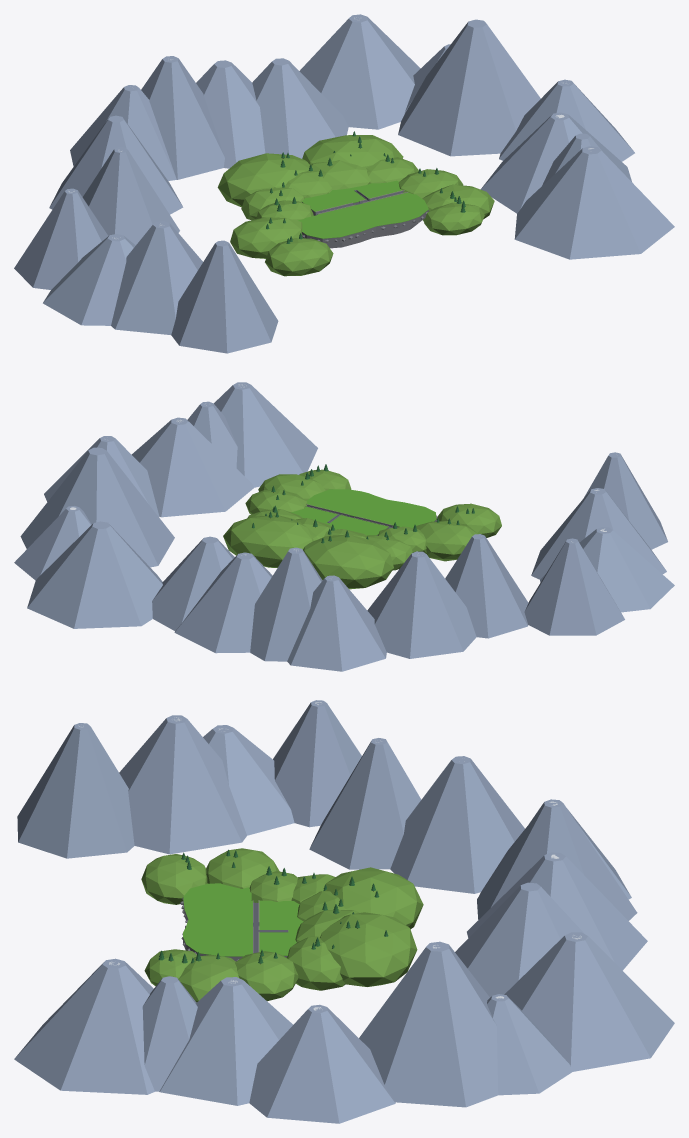
The model's file is LOBBY_VM_02_TERRAIN_2856ea.fbx.
3 renders of one model, top to bottom at view 1: azimuth 30°, elevation 25°; view 2: azimuth 150°, elevation 25°; view 3: azimuth 270°, elevation 25°, orthographic. The views are drawn at different scales.
Parts seen in each view (by area): view 1: VM_Bg_Mountains__Cliff_VM_Far, VM_Ter_Hills__Grass_VM_Hill, VM_Ter_Ground__Grass_VM, VM_Ter_Cliffs__Cliff_VM_Rock, VM_Ter_Hills__Leaf_VM_Pine; view 2: VM_Bg_Mountains__Cliff_VM_Far, VM_Ter_Hills__Grass_VM_Hill, VM_Ter_Ground__Grass_VM, VM_Ter_Hills__Leaf_VM_Pine; view 3: VM_Bg_Mountains__Cliff_VM_Far, VM_Ter_Hills__Grass_VM_Hill, VM_Ter_Ground__Grass_VM, VM_Ter_Hills__Leaf_VM_Pine.
Boxes of the visible parts, <box> form: VM_Bg_Mountains__Cliff_VM_Far: <box>14,14,674,353</box>; VM_Ter_Hills__Grass_VM_Hill: <box>217,135,494,276</box>; VM_Ter_Ground__Grass_VM: <box>298,180,428,238</box>; VM_Ter_Cliffs__Cliff_VM_Rock: <box>302,211,428,248</box>; VM_Ter_Hills__Leaf_VM_Pine: <box>266,131,465,243</box>; VM_Bg_Mountains__Cliff_VM_Far: <box>14,382,674,671</box>; VM_Ter_Hills__Grass_VM_Hill: <box>223,469,501,589</box>; VM_Ter_Ground__Grass_VM: <box>291,489,436,535</box>; VM_Ter_Hills__Leaf_VM_Pine: <box>252,464,474,543</box>; VM_Bg_Mountains__Cliff_VM_Far: <box>14,700,674,1123</box>; VM_Ter_Hills__Grass_VM_Hill: <box>141,848,423,1002</box>; VM_Ter_Ground__Grass_VM: <box>183,883,303,956</box>; VM_Ter_Hills__Leaf_VM_Pine: <box>158,849,388,963</box>.
Bounding box in the file's own units: 1919 × 313 × 1495.
